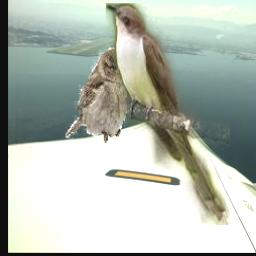Cuckoo: (107, 3, 231, 225)
Sparrow: (67, 48, 128, 149)
